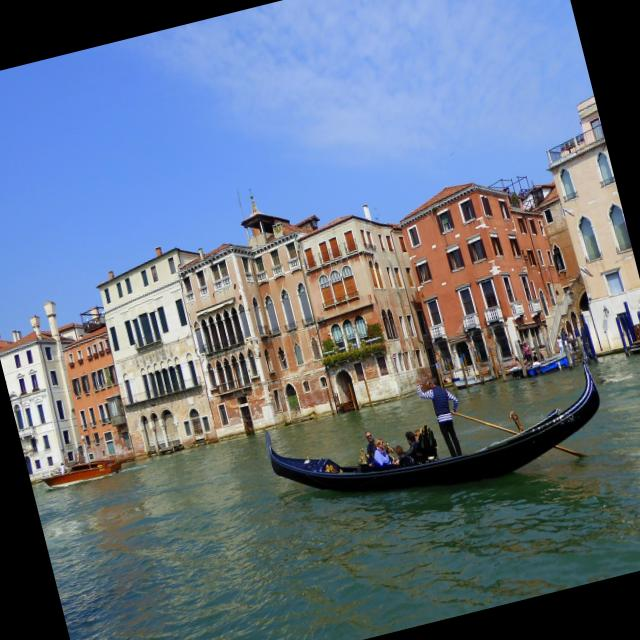boat: (238, 306, 630, 562)
